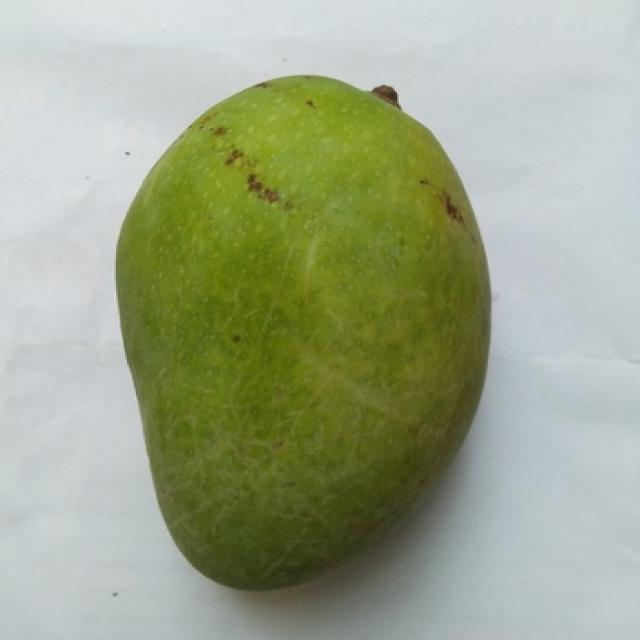Mango: (116, 77, 488, 589)
